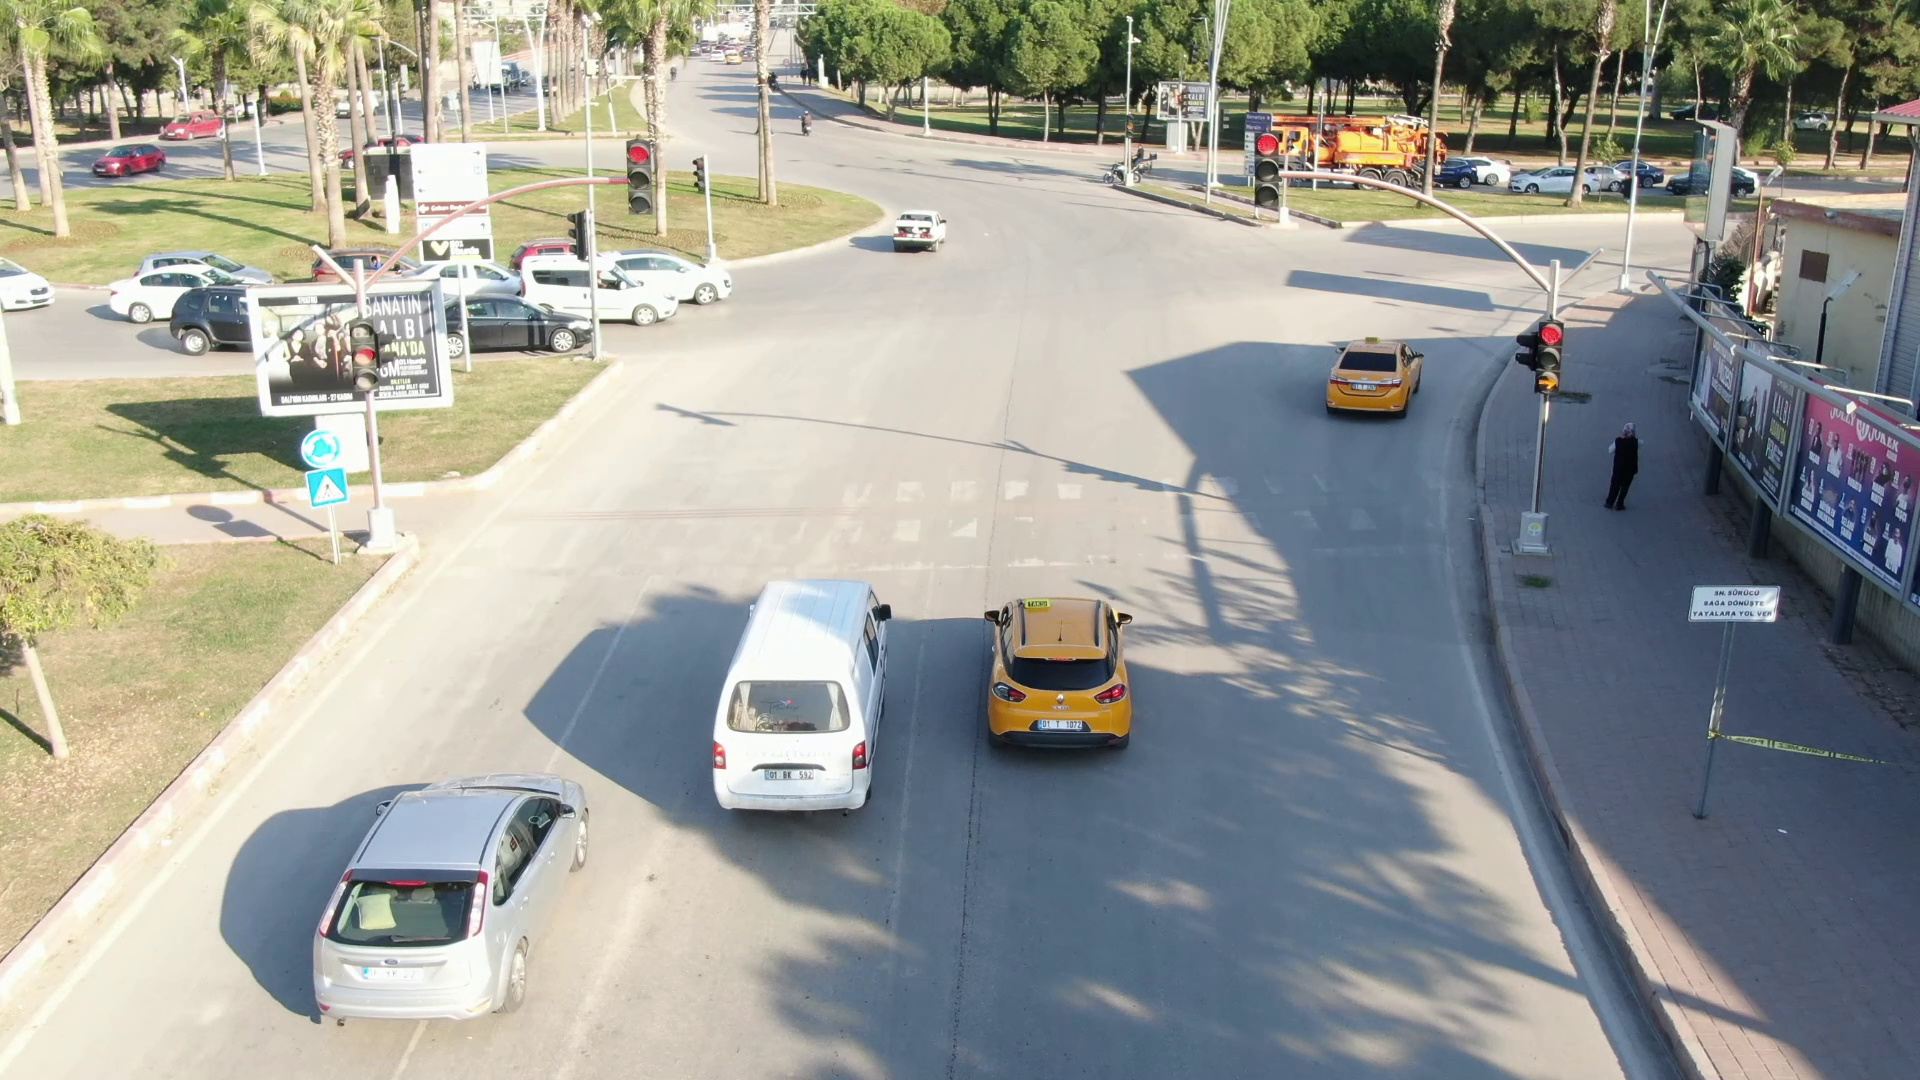car: (319, 761, 617, 1029), (723, 557, 900, 843), (976, 584, 1139, 765), (482, 253, 696, 325), (425, 282, 608, 357), (1319, 319, 1433, 421), (602, 247, 753, 312), (108, 266, 261, 319), (168, 278, 259, 351), (414, 253, 523, 304), (880, 206, 961, 259)
person: (1610, 425, 1645, 525)
